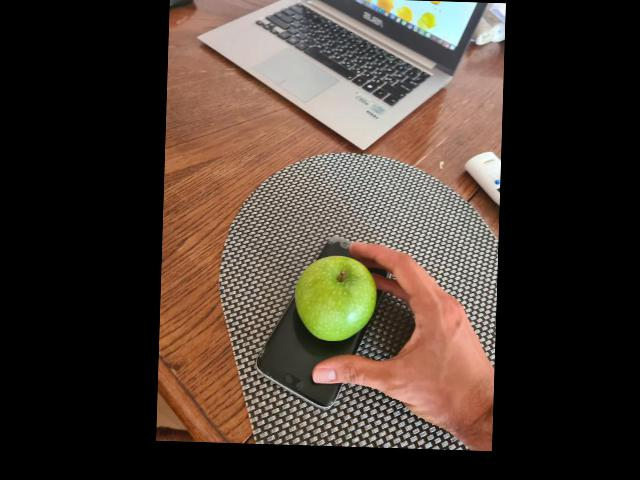apple: (292, 257, 372, 339)
